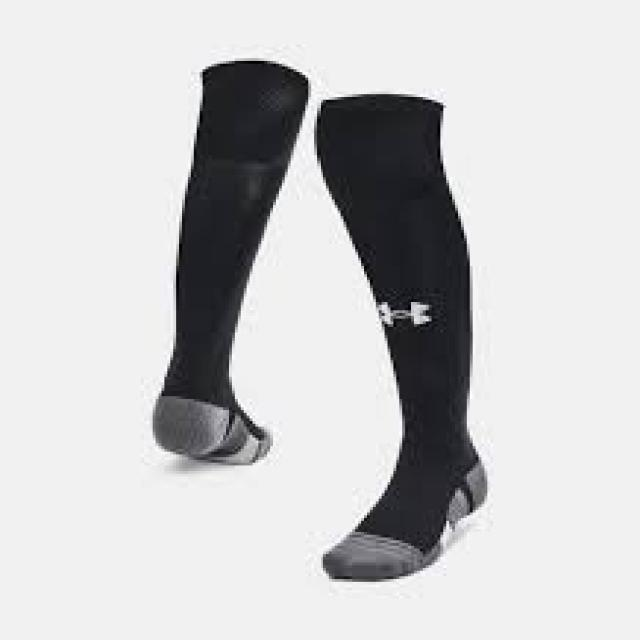sock: (312, 91, 488, 579), (150, 58, 308, 463)
